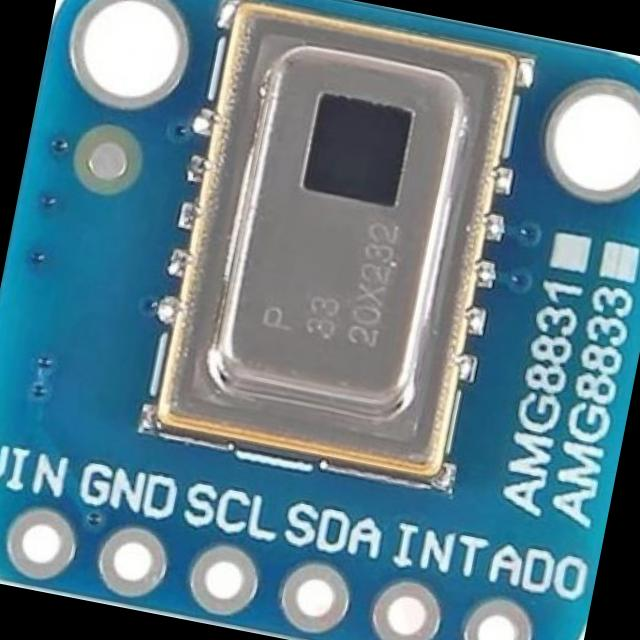IC: (146, 0, 530, 487)
